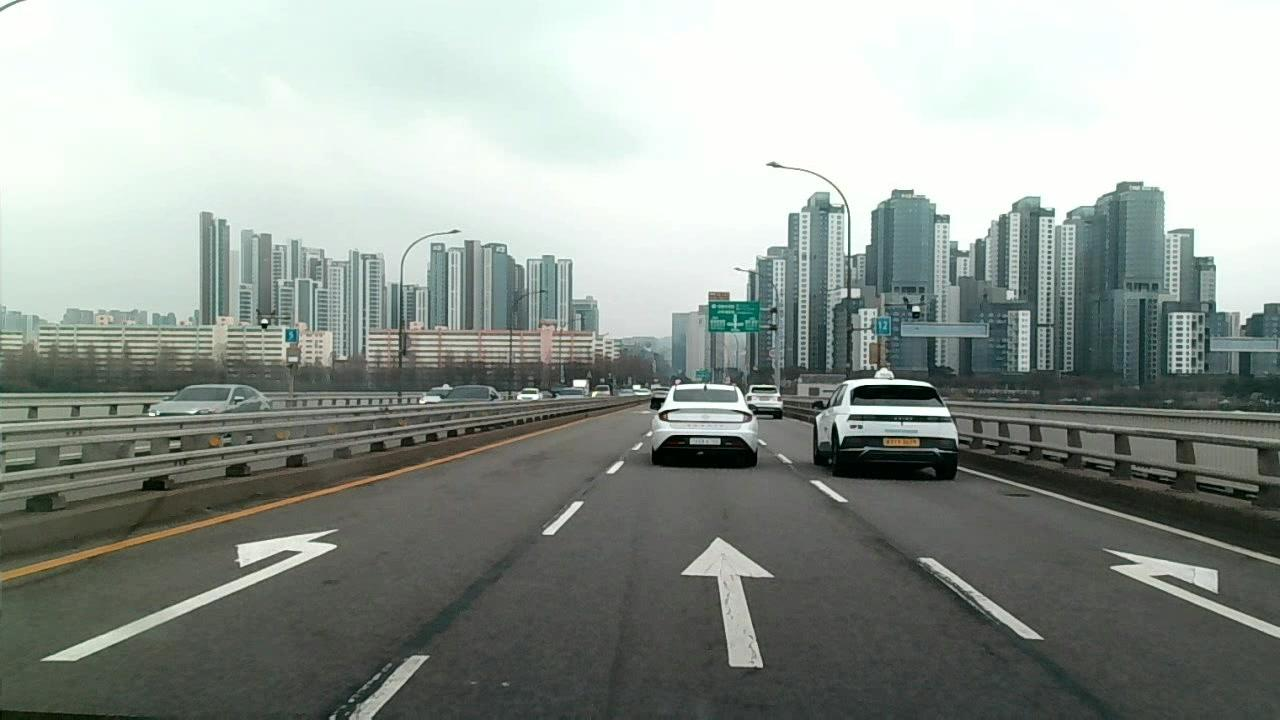banner: (907, 561, 1097, 706), (398, 536, 524, 656)
